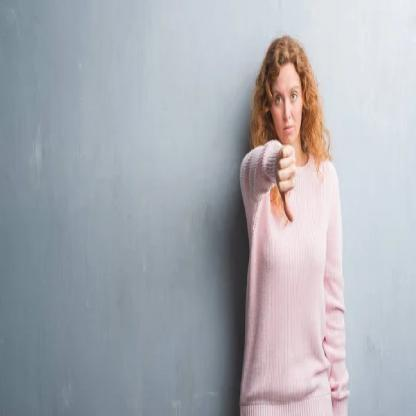thumb_down: (274, 138, 298, 226)
